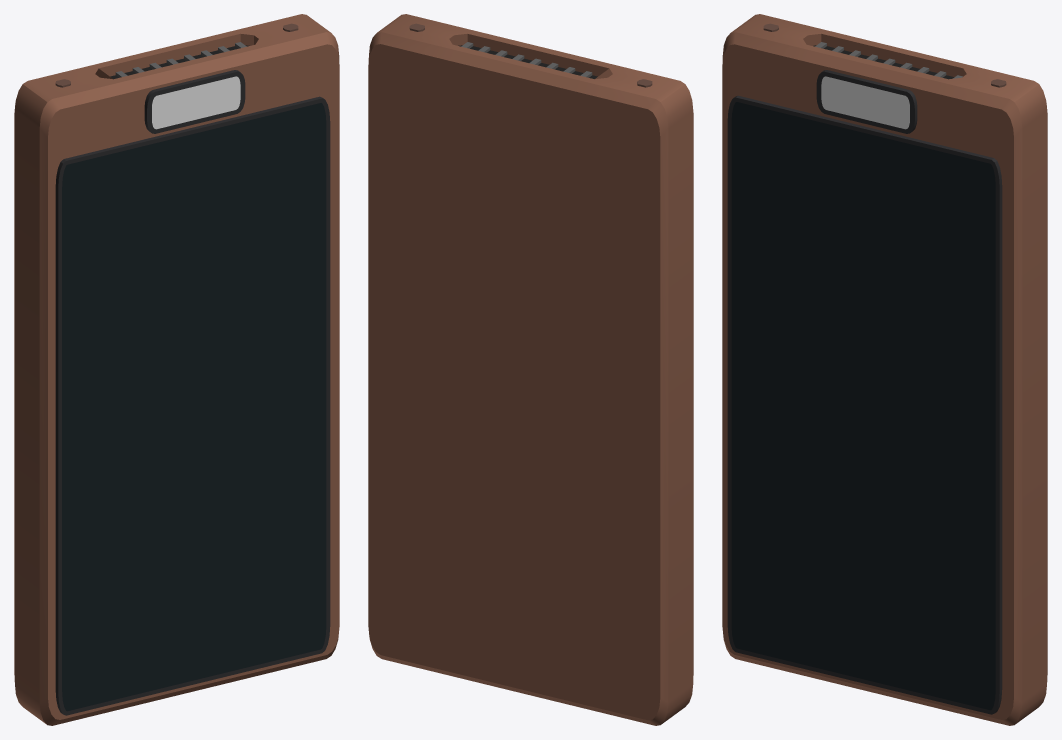
The model's file is Phone_L_01.fbx.
The picture shows the model from 3 angles, left to right: view 1: azimuth 30°, elevation 25°; view 2: azimuth 150°, elevation 25°; view 3: azimuth 330°, elevation 25°; orthographic projection.
Visible parts, largest first — view 1: Phone_L_01; view 2: Phone_L_01; view 3: Phone_L_01.
Boxes of the visible parts, x1,y1,x2,y2 form: Phone_L_01: (14, 14, 339, 725); Phone_L_01: (368, 14, 693, 725); Phone_L_01: (722, 14, 1047, 725).
Bounding box in the file's own units: 658 × 1320 × 137.
